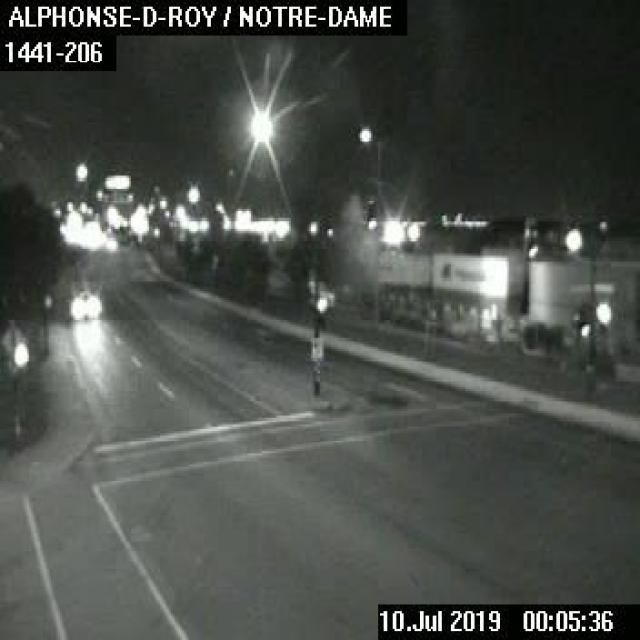vehicle: (65, 285, 104, 320)
